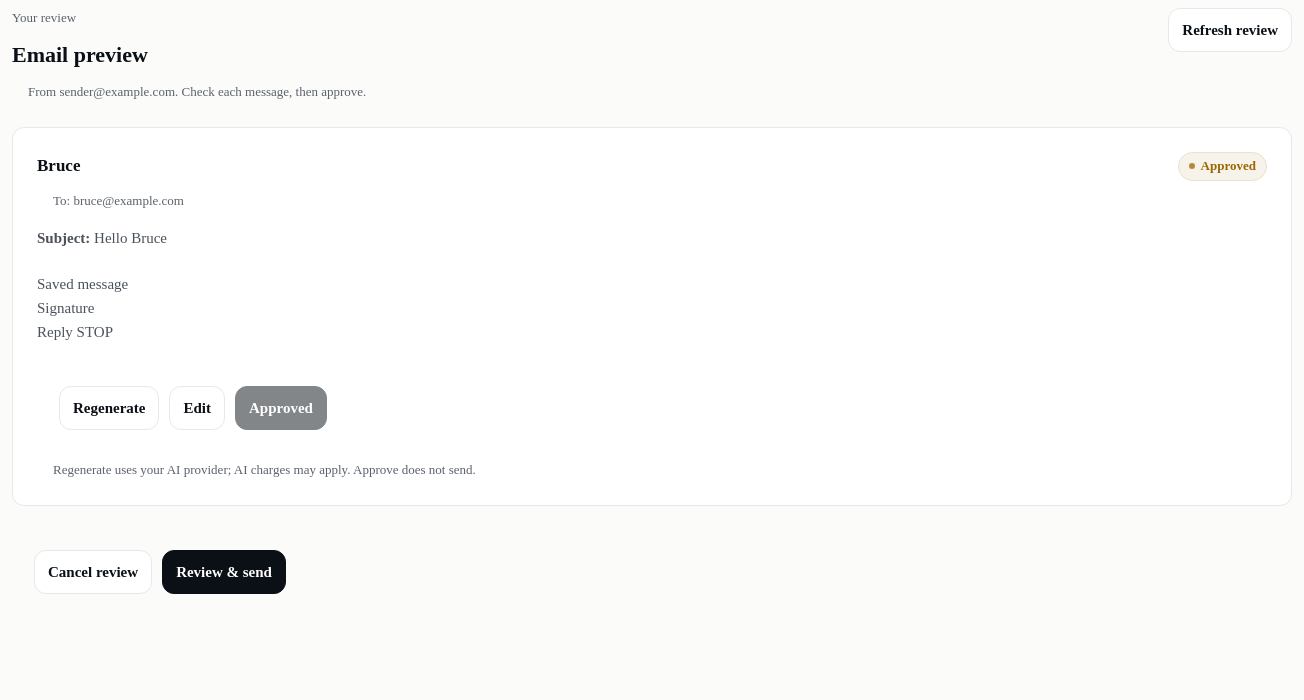
it: unapproved outreach cannot send, approved confirmation Cancel is inert, failures stay visible
Step 1. Click the button "Review & send" → click(224, 572), box [162, 550, 286, 594]
(page scrolled)
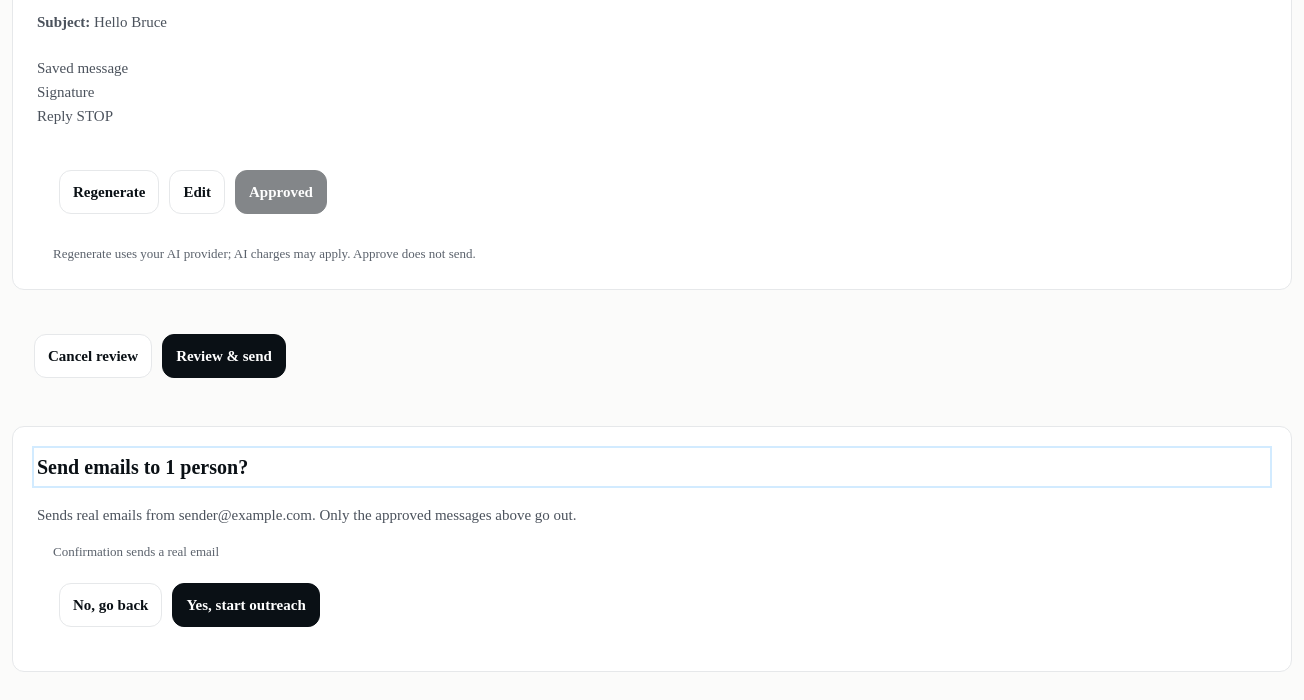
Step 2. Click the button "No, go back" → click(111, 605), box [59, 583, 162, 627]
(page scrolled)
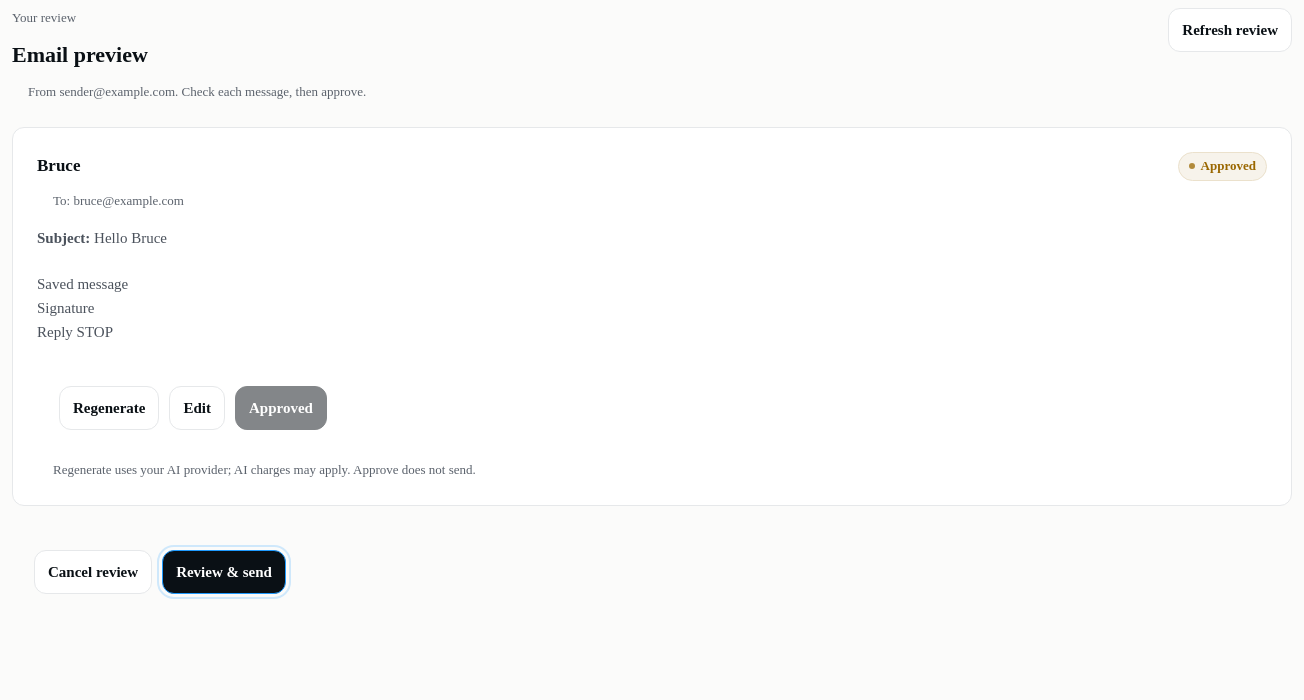
Step 3. Click the button "Review & send" → click(224, 572), box [162, 550, 286, 594]
(page scrolled)
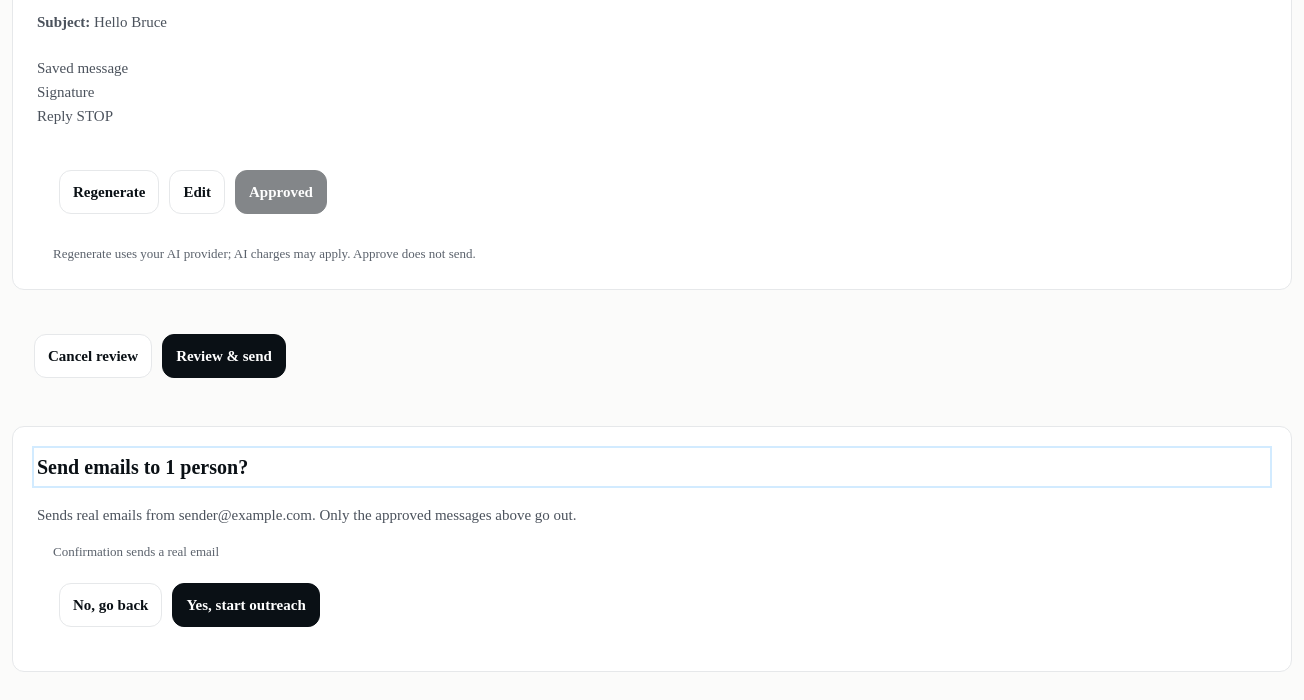
Step 4. Click the button "Yes, start outreach" → click(246, 605), box [172, 583, 320, 627]
(page scrolled)
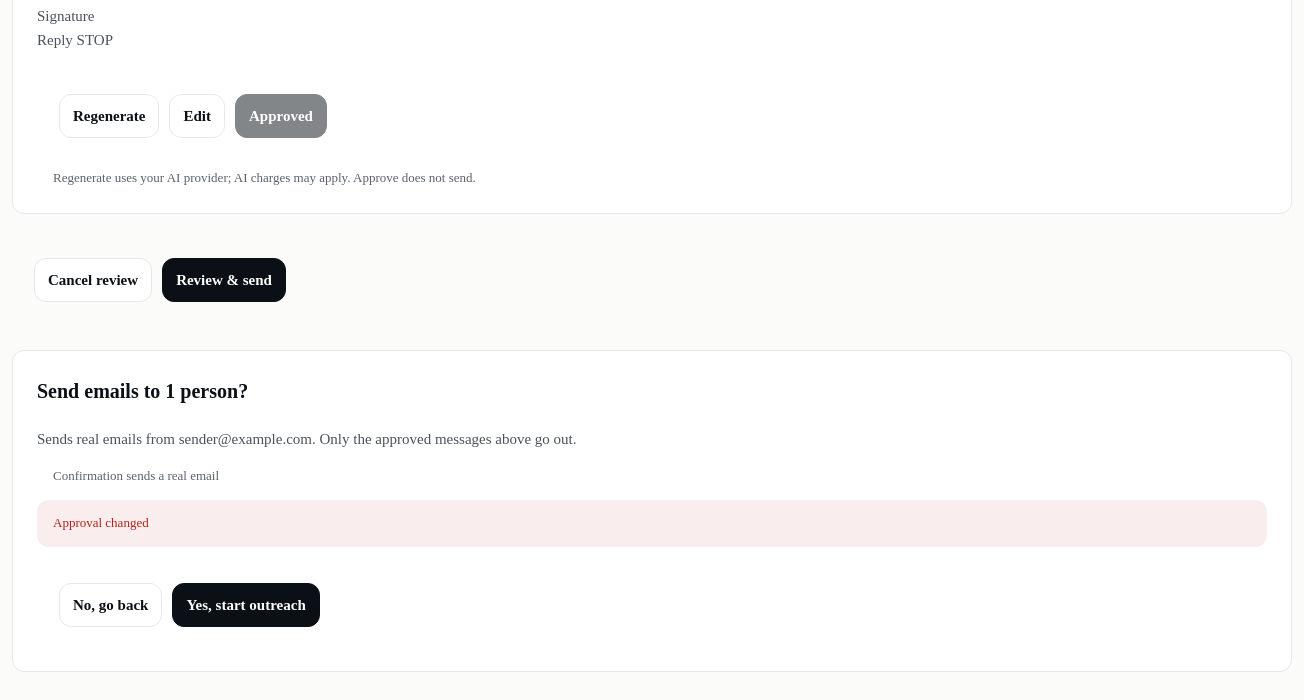
Result: the button "Yes, start outreach" is shown at [172, 583, 320, 627]
Result: the message reads "Approval changed" at [53, 515, 149, 530]
